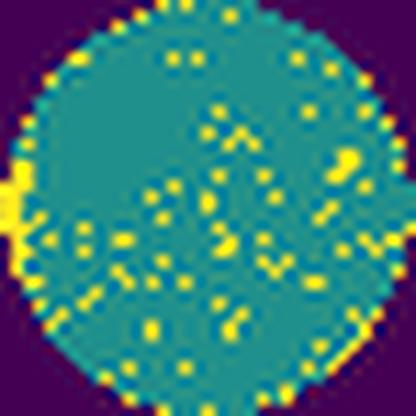Edge-Loc: (0, 158, 52, 281)
